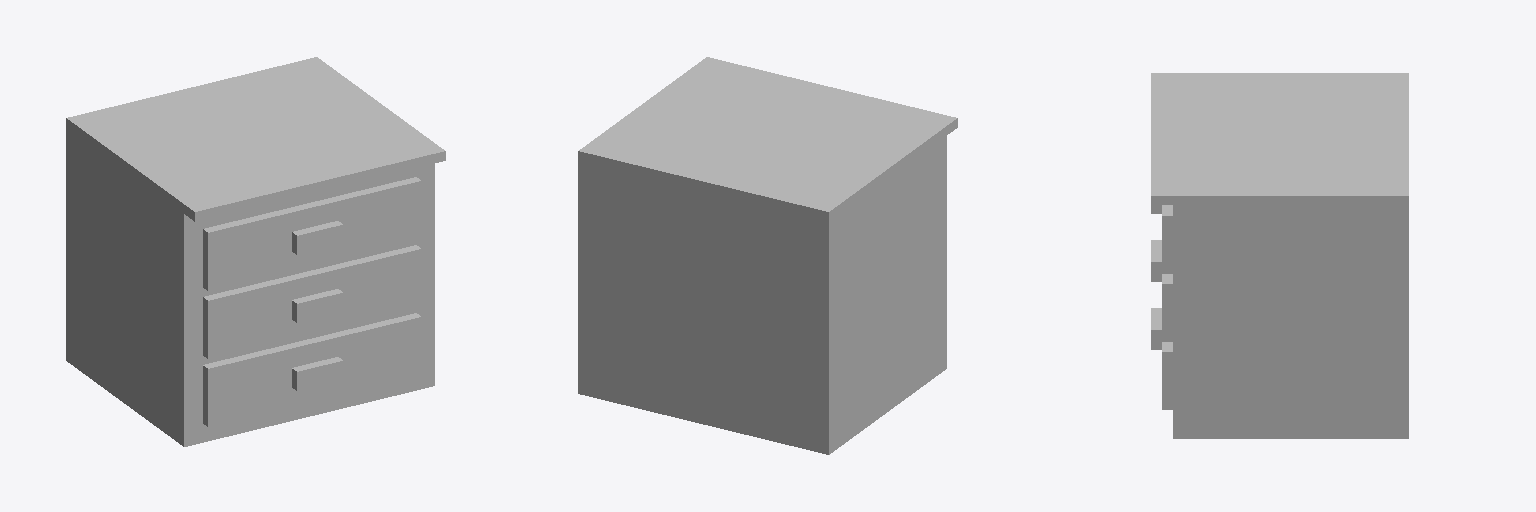
The model's file is comoda 1.obj.
The picture shows the model from 3 angles: view 1: azimuth 30°, elevation 25°; view 2: azimuth 150°, elevation 25°; view 3: azimuth 270°, elevation 25°; orthographic projection.
Visible parts, largest first — view 1: object 1; view 2: object 1; view 3: object 1.
Boxes of the visible parts, x1=… form: object 1: x1=66, y1=57, x2=445, y2=446; object 1: x1=578, y1=57, x2=957, y2=454; object 1: x1=1151, y1=73, x2=1408, y2=438.
Bounding box in the file's own units: 2.7 × 2.5 × 2.4.